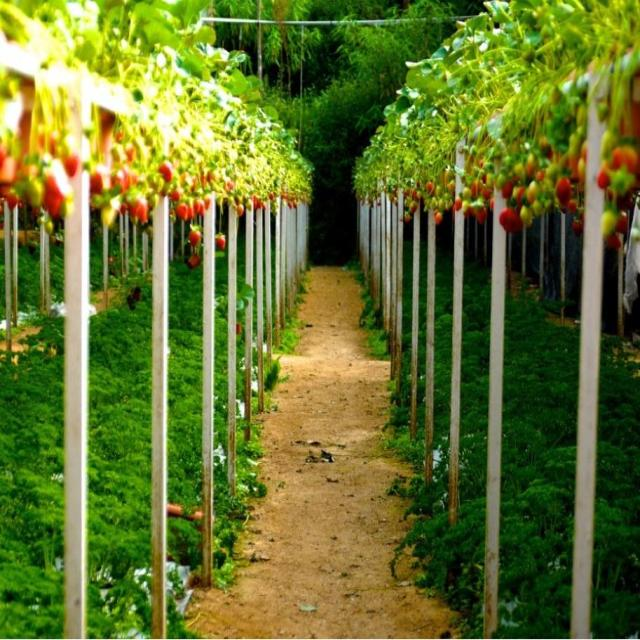row: (169, 264, 474, 640)
